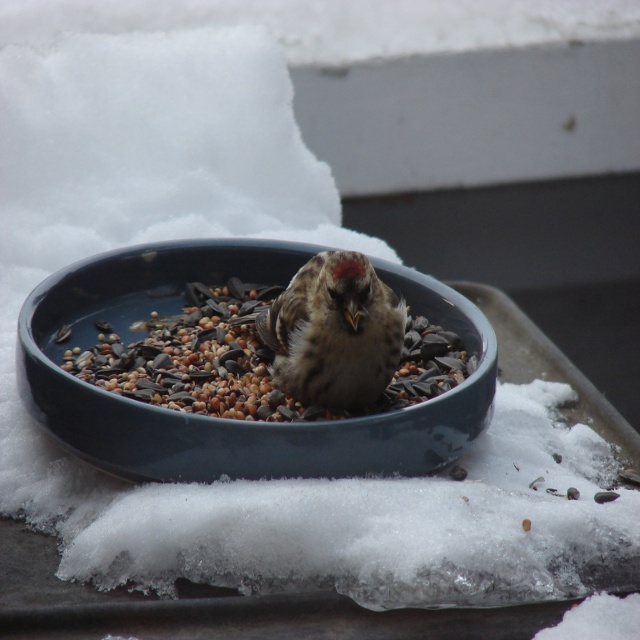Sparrow: (256, 247, 410, 405)
